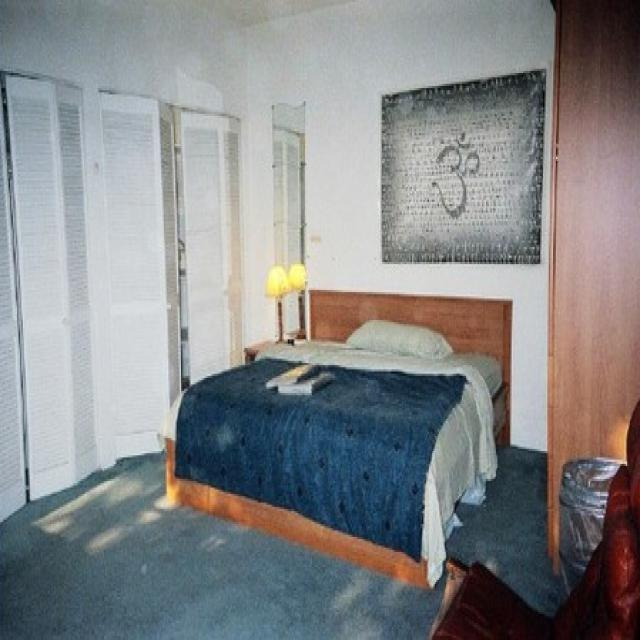armchair occluded: (428, 414, 636, 638)
bed -occluded-: (160, 290, 512, 588)
ceiling beam: (175, 0, 346, 21)
closet crop: (100, 90, 241, 460), (1, 69, 96, 524)
floor -X: (1, 395, 634, 634)
lamp crop: (269, 264, 288, 335)
mirror crop: (268, 97, 305, 335)
picture crop: (383, 67, 544, 262)
puf: (557, 455, 619, 563)
wall clock: (238, 2, 550, 455), (1, 0, 248, 505), (544, 0, 636, 563)
